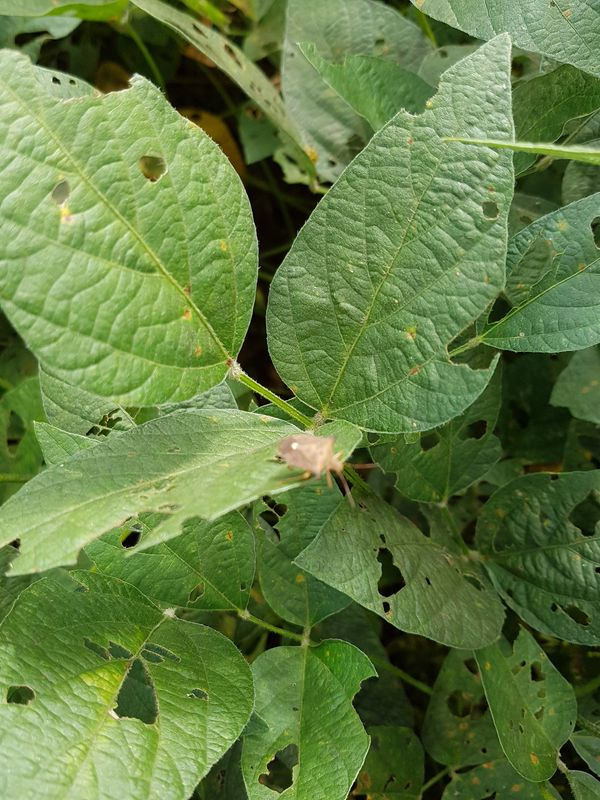Euschistus_heros_adulto: (259, 416, 388, 518)
